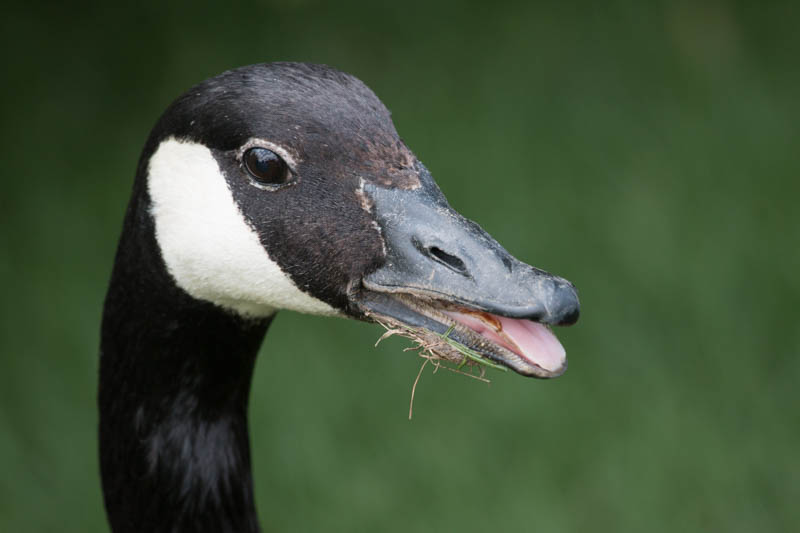goose-head: (108, 60, 582, 382)
